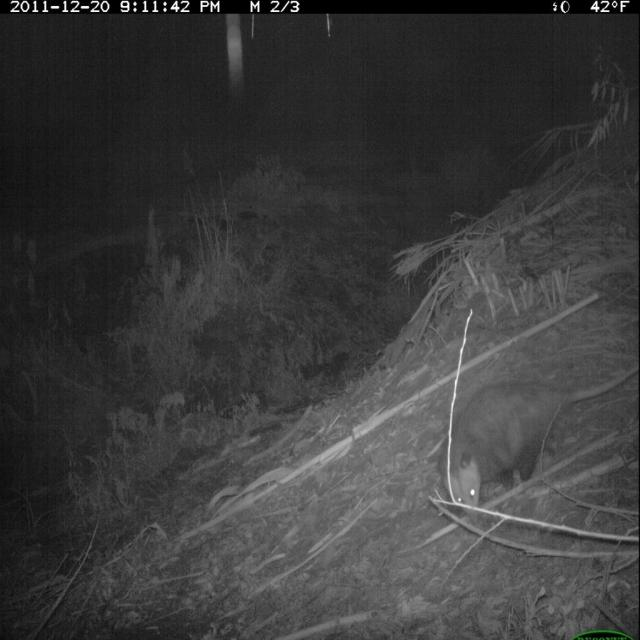opossum: (403, 347, 628, 536)
